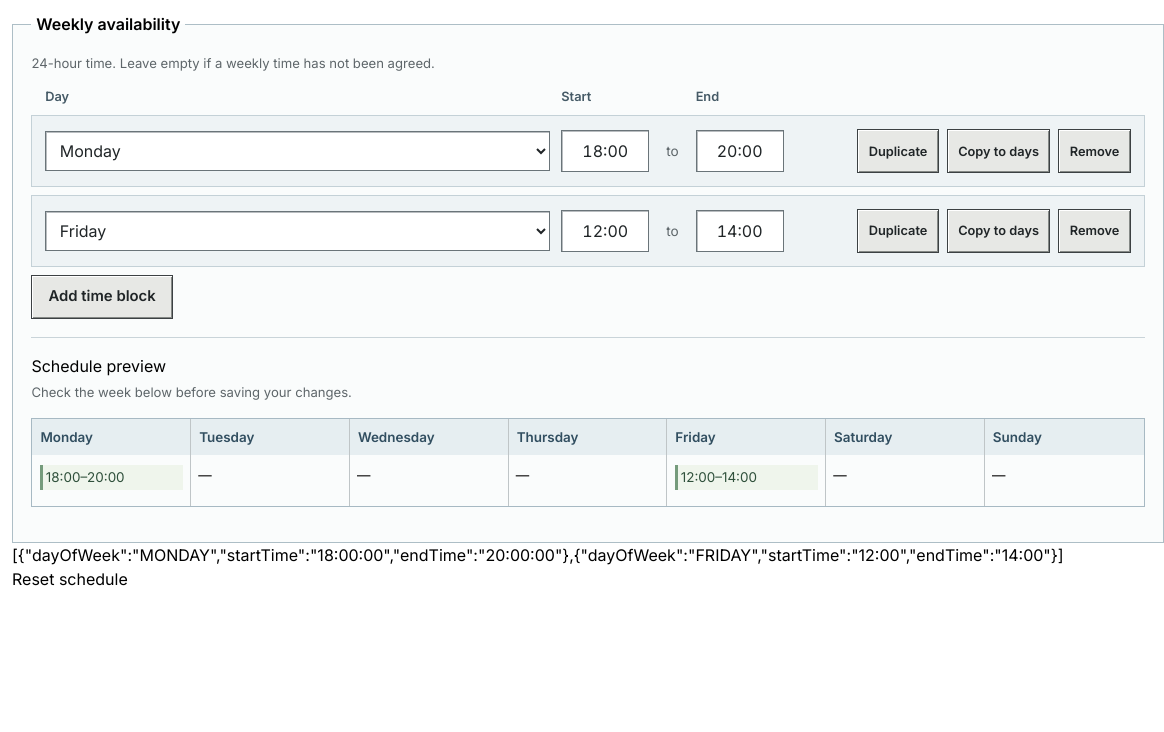
Test: weekly editor conveniences › duplicates to the next free day, directly below, without changing the original
Step 1. Click the button with aria-label "Duplicate time 1" → (898, 151), box x1=857 y1=129 x2=939 y2=173
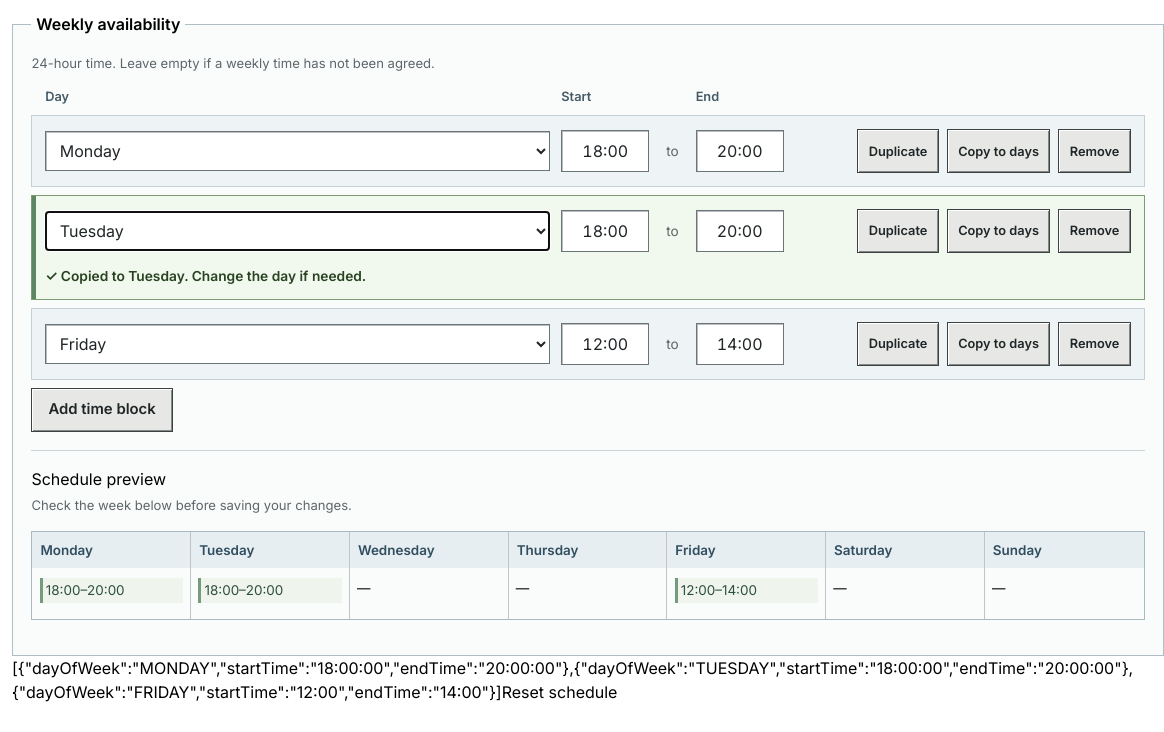
Expected: the text "18:00–20:00" is shown 2 times, x1=40 y1=578 x2=183 y2=602; x1=198 y1=578 x2=342 y2=602
